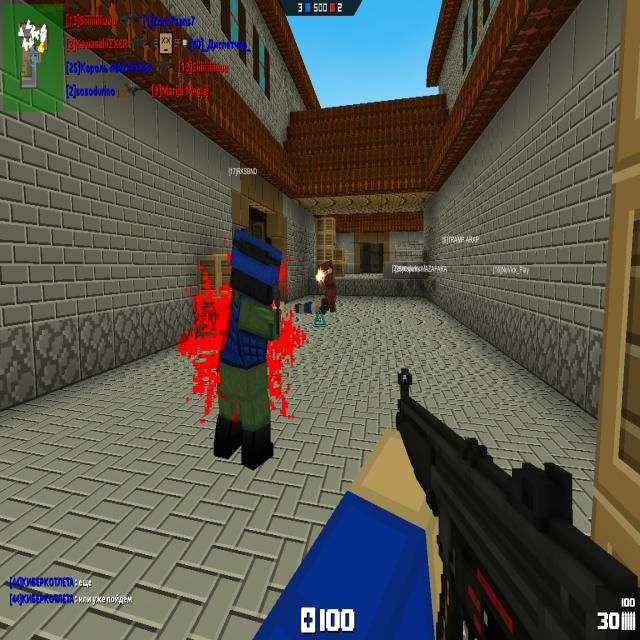enemy: (321, 260, 336, 312)
